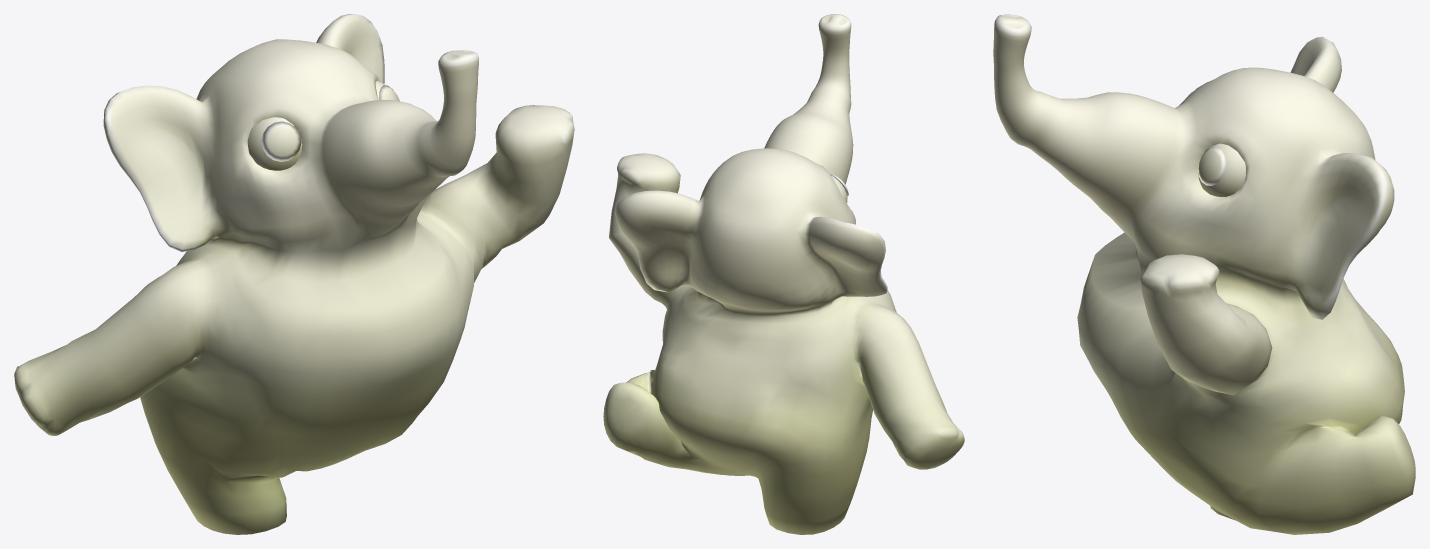
The model's file is LP_ElephantStatue.fbx.
3 renders of one model, left to right at view 1: azimuth 30°, elevation 25°; view 2: azimuth 150°, elevation 25°; view 3: azimuth 270°, elevation 25°, orthographic. The views are drawn at different scales.
Parts seen in each view (by area): view 1: LP_ElephantStatue; view 2: LP_ElephantStatue; view 3: LP_ElephantStatue.
Boxes of the visible parts, x1,y1,x2,y2 form: LP_ElephantStatue: (14,14,574,534); LP_ElephantStatue: (603,14,964,534); LP_ElephantStatue: (993,14,1415,534).
Size of the model in its own units: 195 by 203 by 143.
